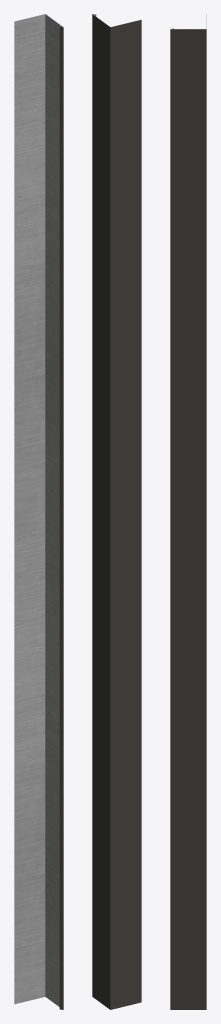
Rendered from bande de rive standard.gltf.
3 views of the same model, side by side, from view 1: azimuth 30°, elevation 25°; view 2: azimuth 210°, elevation 25°; view 3: azimuth 270°, elevation 25° (orthographic).
Visible parts, largest first — view 1: bande de rive standard; view 2: bande de rive standard; view 3: bande de rive standard.
Part boxes in pixels (left/top/right/bottom): bande de rive standard: left=14, top=14, right=63, bottom=1009; bande de rive standard: left=92, top=14, right=141, bottom=1009; bande de rive standard: left=170, top=14, right=206, bottom=1009.
Size of the model in its own units: 0.1 by 3 by 0.101.
Materials: 2 (1 with a texture image).
